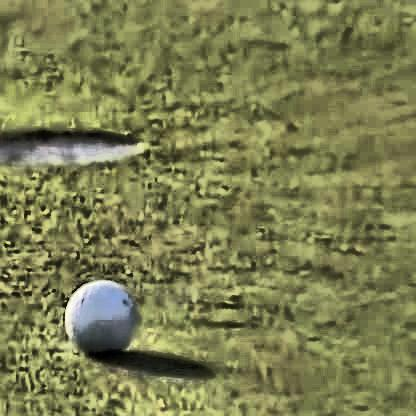golfball: (62, 276, 136, 352)
